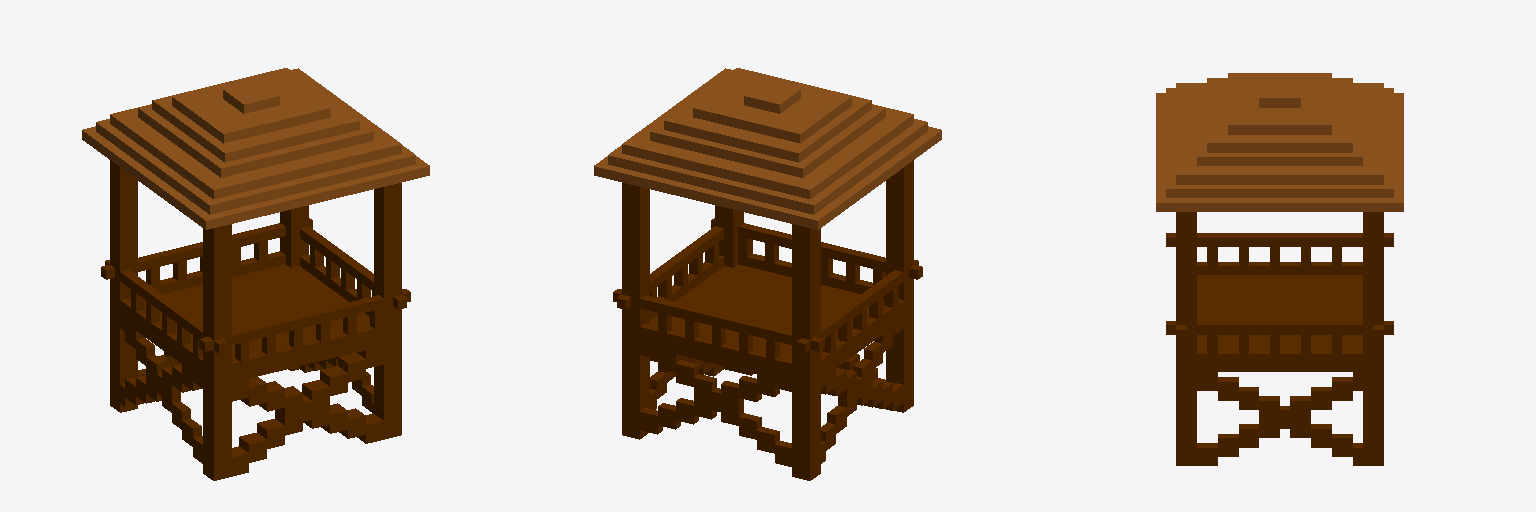
The picture shows the model from 3 angles: view 1: azimuth 30°, elevation 25°; view 2: azimuth 150°, elevation 25°; view 3: azimuth 270°, elevation 25°; orthographic projection.
Size of the model in its own units: 25 by 35 by 24.
1 materials, 1 textured.